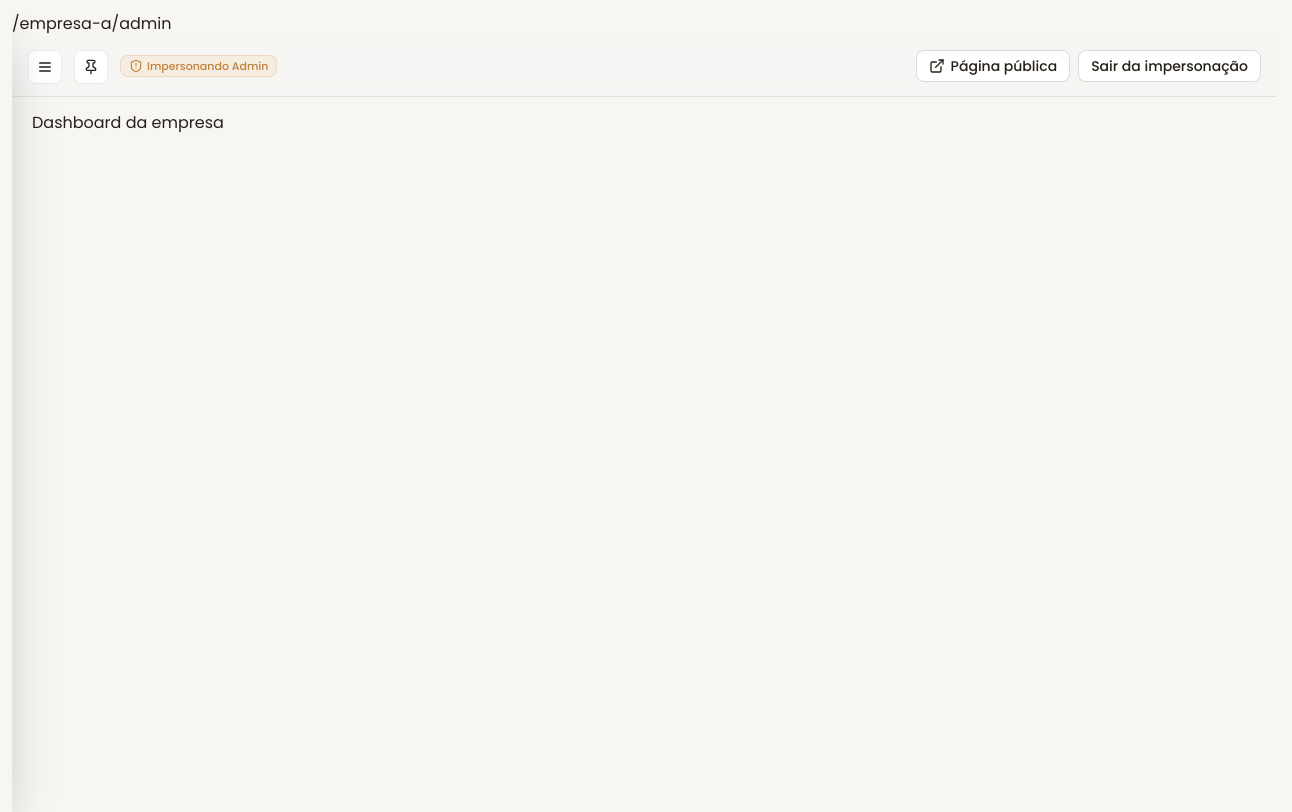
leaving impersonation with the real layout, delegation hook, and guards › preserves Superadmin exit to the global Dashboard without a support stop RPC
Check: the heading "Dashboard da empresa" is shown, box left=32, top=111, right=224, bottom=134
Click the button "Sair da impersonação".
click(1170, 66)  # box left=1078, top=50, right=1261, bottom=82
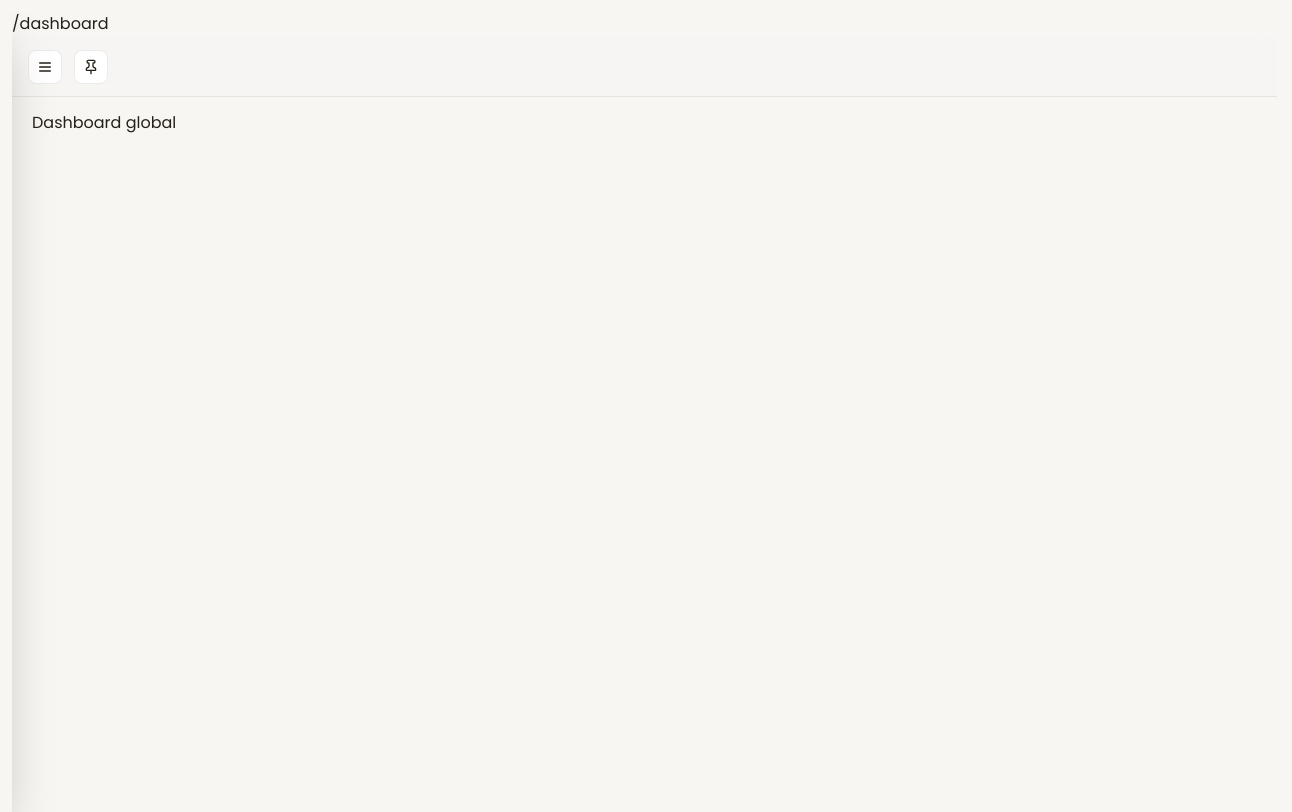
Check: the heading "Dashboard global" is shown, box left=32, top=111, right=176, bottom=134
Check: the text with test id "path" reads "/dashboard", box left=12, top=12, right=108, bottom=35
